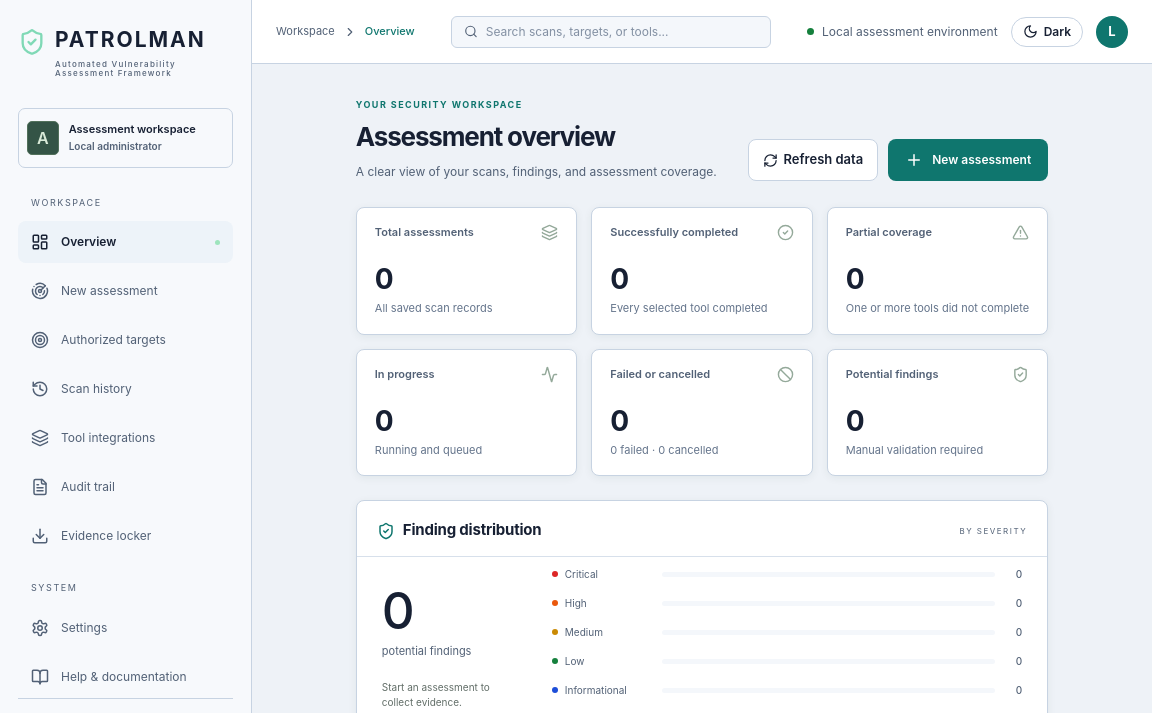
Scenario: accepts search query in GlobalSearch and displays matching results
In the field with placeholder "Search scans, targets, or tools...": (622, 32) [486,22,758,40], type "nmap"
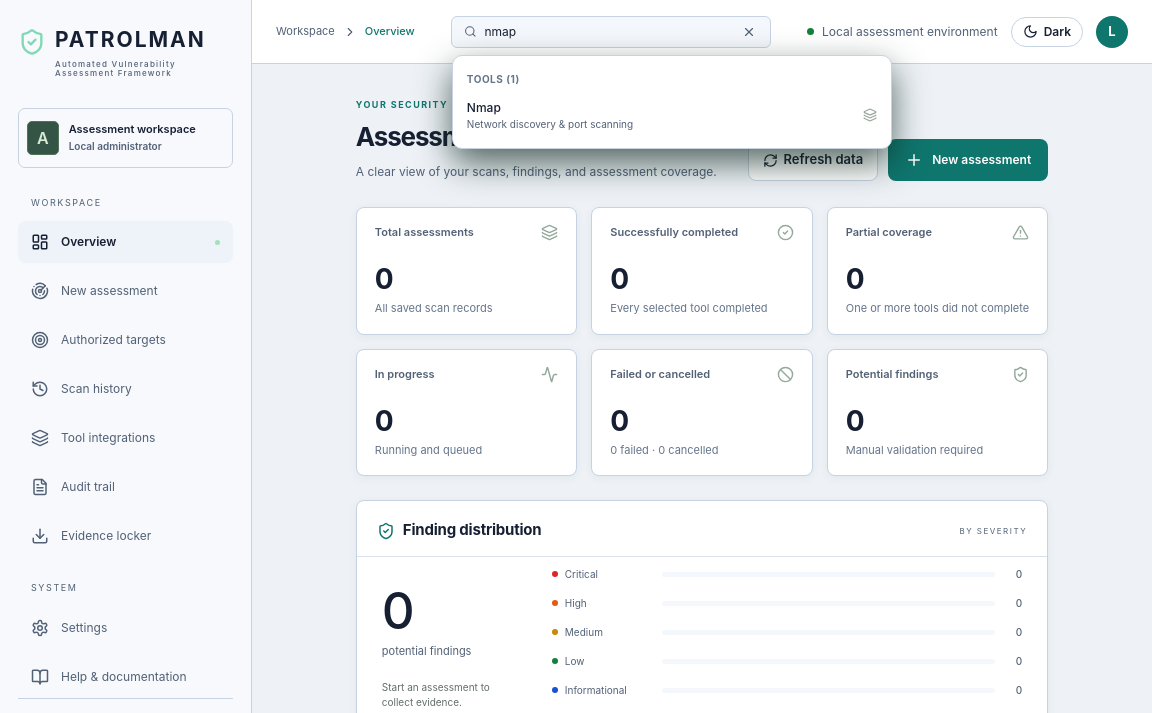
expect the list is shown: met, box [452,54,892,148]
expect the text "Network discovery & port scanning" is shown: met, box [467,116,633,132]
